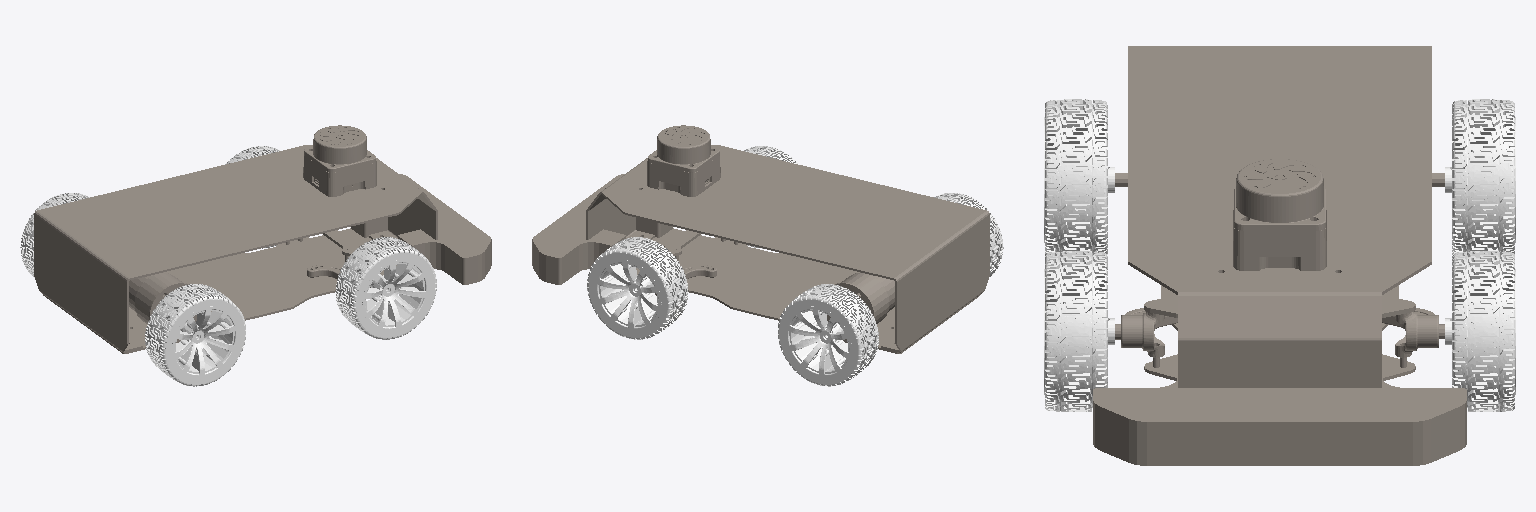
The robot description file, URDF, robot "OriginCarPro":
<?xml version="1.0" encoding="utf-8"?>
<!-- This URDF was automatically created by SolidWorks to URDF Exporter! Originally created by Stephen Brawner (brawner@gmail.com) 
     Commit Version: 1.6.0-4-g7f85cfe  Build Version: 1.6.7995.38578
     For more information, please see http://wiki.ros.org/sw_urdf_exporter -->
<robot
  name="OriginCarPro">
  <link
    name="base_link">
    <inertial>
      <origin
        xyz="0.056496 -1.6944E-06 0.010996"
        rpy="0 0 0" />
      <mass
        value="1.8081" />
      <inertia
        ixx="0.0014414"
        ixy="2.9606E-07"
        ixz="-0.00014005"
        iyy="0.0056767"
        iyz="-3.1977E-08"
        izz="0.0066499" />
    </inertial>
    <visual>
      <origin
        xyz="0 0 0"
        rpy="0 0 0" />
      <geometry>
        <mesh
          filename="package://OriginCarPro/meshes/base_link.STL" />
      </geometry>
      <material
        name="">
        <color
          rgba="0.65098 0.61961 0.58824 1" />
      </material>
    </visual>
    <collision>
      <origin
        xyz="0 0 0"
        rpy="0 0 0" />
      <geometry>
        <mesh
          filename="package://OriginCarPro/meshes/base_link.STL" />
      </geometry>
    </collision>
  </link>
  <link
    name="left_steering_hinge">
    <inertial>
      <origin
        xyz="-0.0083031 0.0025999 -2.4498E-09"
        rpy="0 0 0" />
      <mass
        value="0.028478" />
      <inertia
        ixx="3.0216E-06"
        ixy="-2.1455E-06"
        ixz="-5.3757E-12"
        iyy="3.267E-06"
        iyz="-9.3338E-12"
        izz="5.5999E-06" />
    </inertial>
    <visual>
      <origin
        xyz="0 0 0"
        rpy="0 0 0" />
      <geometry>
        <mesh
          filename="package://OriginCarPro/meshes/left_steering_hinge.STL" />
      </geometry>
      <material
        name="">
        <color
          rgba="0.65098 0.61961 0.58824 1" />
      </material>
    </visual>
    <collision>
      <origin
        xyz="0 0 0"
        rpy="0 0 0" />
      <geometry>
        <mesh
          filename="package://OriginCarPro/meshes/left_steering_hinge.STL" />
      </geometry>
    </collision>
  </link>
  <joint
    name="left_steering_joint"
    type="revolute">
    <origin
      xyz="0.148 0.050826 0.000213"
      rpy="0 0 0" />
    <parent
      link="base_link" />
    <child
      link="left_steering_hinge" />
    <axis
      xyz="0 0 1" />
    <limit
      lower="-0.6"
      upper="0.6"
      effort="10"
      velocity="1.0" />
    <dynamics damping="0.5" friction="0.1" />
  </joint>
  <link
    name="left_front_wheel">
    <inertial>
      <origin
        xyz="-2.5017E-08 -2.9552E-08 -0.0040282"
        rpy="0 0 0" />
      <mass
        value="0.069908" />
      <inertia
        ixx="2.4002E-05"
        ixy="-2.0238E-10"
        ixz="-3.3596E-11"
        iyy="2.4005E-05"
        iyz="-3.1737E-11"
        izz="4.1071E-05" />
    </inertial>
    <visual>
      <origin
        xyz="0 0 0"
        rpy="0 0 0" />
      <geometry>
        <mesh
          filename="package://OriginCarPro/meshes/left_front_wheel.STL" />
      </geometry>
      <material
        name="">
        <color
          rgba="1 1 1 1" />
      </material>
    </visual>
    <collision>
      <origin
        xyz="0 0 0"
        rpy="0 0 0" />
      <geometry>
        <cylinder radius="0.0325" length="0.026" />
      </geometry>
    </collision>
  </link>
  <joint
    name="left_front_wheel_joint"
    type="continuous">
    <origin
      xyz="0 0.03637 0"
      rpy="-1.5708 0 0" />
    <parent
      link="left_steering_hinge" />
    <child
      link="left_front_wheel" />
    <axis
      xyz="0 0 -1" />
    <dynamics damping="0.1" friction="0.05" />
  </joint>
  <link
    name="right_steering_hinge">
    <inertial>
      <origin
        xyz="-0.0083031 -0.0025999 2.4498E-09"
        rpy="0 0 0" />
      <mass
        value="0.028478" />
      <inertia
        ixx="3.0216E-06"
        ixy="2.1455E-06"
        ixz="5.3757E-12"
        iyy="3.267E-06"
        iyz="-9.3338E-12"
        izz="5.5999E-06" />
    </inertial>
    <visual>
      <origin
        xyz="0 0 0"
        rpy="0 0 0" />
      <geometry>
        <mesh
          filename="package://OriginCarPro/meshes/right_steering_hinge.STL" />
      </geometry>
      <material
        name="">
        <color
          rgba="0.65098 0.61961 0.58824 1" />
      </material>
    </visual>
    <collision>
      <origin
        xyz="0 0 0"
        rpy="0 0 0" />
      <geometry>
        <mesh
          filename="package://OriginCarPro/meshes/right_steering_hinge.STL" />
      </geometry>
    </collision>
  </link>
  <joint
    name="right_steering_joint"
    type="revolute">
    <origin
      xyz="0.148 -0.050825 0.000213"
      rpy="0 0 0" />
    <parent
      link="base_link" />
    <child
      link="right_steering_hinge" />
    <axis
      xyz="0 0 1" />
    <limit
      lower="-0.6"
      upper="0.6"
      effort="10"
      velocity="1.0" />
    <dynamics damping="0.5" friction="0.1" />
  </joint>
  <link
    name="right_front_wheel">
    <inertial>
      <origin
        xyz="2.4652E-08 2.9058E-08 -0.0040282"
        rpy="0 0 0" />
      <mass
        value="0.069908" />
      <inertia
        ixx="2.4002E-05"
        ixy="-2.0213E-10"
        ixz="3.3733E-11"
        iyy="2.4005E-05"
        iyz="3.2156E-11"
        izz="4.1071E-05" />
    </inertial>
    <visual>
      <origin
        xyz="0 0 0"
        rpy="0 0 0" />
      <geometry>
        <mesh
          filename="package://OriginCarPro/meshes/right_front_wheel.STL" />
      </geometry>
      <material
        name="">
        <color
          rgba="1 1 1 1" />
      </material>
    </visual>
    <collision>
      <origin
        xyz="0 0 0"
        rpy="0 0 0" />
      <geometry>
        <cylinder radius="0.0325" length="0.026" />
      </geometry>
    </collision>
  </link>
  <joint
    name="right_front_wheel_joint"
    type="continuous">
    <origin
      xyz="0 -0.03637 0"
      rpy="1.5708 0 0" />
    <parent
      link="right_steering_hinge" />
    <child
      link="right_front_wheel" />
    <axis
      xyz="0 0 -1" />
    <dynamics damping="0.1" friction="0.05" />
  </joint>
  <link
    name="left_rear_wheel">
    <inertial>
      <origin
        xyz="-2.4533E-08 -2.9669E-08 -0.0040282"
        rpy="0 0 0" />
      <mass
        value="0.069908" />
      <inertia
        ixx="2.4002E-05"
        ixy="-2.0225E-10"
        ixz="-3.3834E-11"
        iyy="2.4005E-05"
        iyz="-3.1655E-11"
        izz="4.1071E-05" />
    </inertial>
    <visual>
      <origin
        xyz="0 0 0"
        rpy="0 0 0" />
      <geometry>
        <mesh
          filename="package://OriginCarPro/meshes/left_rear_wheel.STL" />
      </geometry>
      <material
        name="">
        <color
          rgba="1 1 1 1" />
      </material>
    </visual>
    <collision>
      <origin
        xyz="0 0 0"
        rpy="0 0 0" />
      <geometry>
        <cylinder radius="0.0325" length="0.026" />
      </geometry>
    </collision>
  </link>
  <joint
    name="left_rear_wheel_joint"
    type="continuous">
    <origin
      xyz="0 0.0872 0"
      rpy="-1.5708 0 0" />
    <parent
      link="base_link" />
    <child
      link="left_rear_wheel" />
    <axis
      xyz="0 0 -1" />
    <dynamics damping="0.1" friction="0.05" />
  </joint>
  <link
    name="right_rear_wheel">
    <inertial>
      <origin
        xyz="2.4533E-08 2.9669E-08 -0.0040282"
        rpy="0 0 0" />
      <mass
        value="0.069908" />
      <inertia
        ixx="2.4002E-05"
        ixy="-2.0225E-10"
        ixz="3.3834E-11"
        iyy="2.4005E-05"
        iyz="3.1655E-11"
        izz="4.1071E-05" />
    </inertial>
    <visual>
      <origin
        xyz="0 0 0"
        rpy="0 0 0" />
      <geometry>
        <mesh
          filename="package://OriginCarPro/meshes/right_rear_wheel.STL" />
      </geometry>
      <material
        name="">
        <color
          rgba="1 1 1 1" />
      </material>
    </visual>
    <collision>
      <origin
        xyz="0 0 -0.004"
        rpy="0 0 0" />
      <geometry>
        <cylinder radius="0.034" length="0.026" />
      </geometry>
    </collision>
  </link>
  <joint
    name="right_rear_wheel_joint"
    type="continuous">
    <origin
      xyz="0 -0.0872 0"
      rpy="1.5708 0 0" />
    <parent
      link="base_link" />
    <child
      link="right_rear_wheel" />
    <axis
      xyz="0 0 -1" />
    <dynamics damping="0.1" friction="0.05" />
  </joint>
</robot>

--- Facts derived from the render (not from the file) ---
3 views of the same robot in one strip: view 1: azimuth 30°, elevation 25°; view 2: azimuth 150°, elevation 25°; view 3: azimuth 270°, elevation 25° (orthographic).
Model OriginCarPro with 7 links and 6 joints (2 revolute, 4 continuous), rooted at base_link, posed all joints at 0.
Links seen in each view (by area): view 1: base_link, right_front_wheel, right_rear_wheel, left_rear_wheel; view 2: base_link, left_front_wheel, left_rear_wheel, right_rear_wheel; view 3: base_link, left_front_wheel, right_front_wheel, left_rear_wheel, right_rear_wheel, right_steering_hinge, left_steering_hinge.
Link boxes in pixels (x1,y1,x2,y2): base_link: [34, 125, 491, 353]; right_front_wheel: [336, 237, 436, 339]; right_rear_wheel: [145, 284, 245, 386]; left_rear_wheel: [20, 193, 89, 277]; base_link: [532, 125, 989, 353]; left_front_wheel: [587, 237, 687, 339]; left_rear_wheel: [778, 284, 878, 386]; right_rear_wheel: [934, 193, 1003, 277]; base_link: [1093, 46, 1466, 465]; left_front_wheel: [1445, 251, 1515, 411]; right_front_wheel: [1044, 251, 1114, 411]; left_rear_wheel: [1445, 99, 1515, 255]; right_rear_wheel: [1044, 99, 1114, 255]; right_steering_hinge: [1115, 308, 1177, 357]; left_steering_hinge: [1382, 308, 1444, 357].
Size in the robot's own frame: 0.2859 by 0.1936 by 0.1096 metres.
7 mesh visuals loaded from 7 distinct referenced files (7 binary STL).
